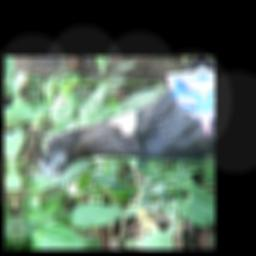Crow: (34, 79, 209, 181)
